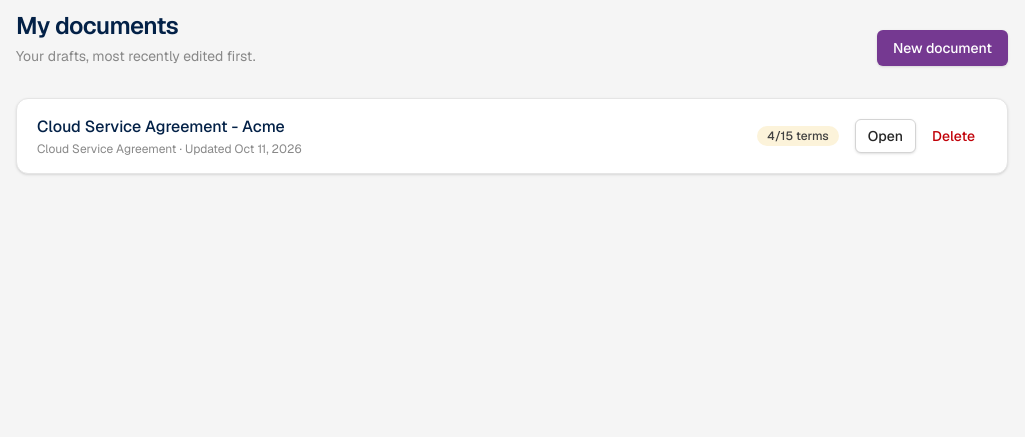
Scenario: My documents › lists documents and deletes one
The image size is (1025, 437).
Expected: the text "4/15 terms" is shown, [757,126,839,146]
Expected: the text "Cloud Service Agreement · Updated Oct 11, 2026" is shown, [37,141,302,157]
Click the button with aria-label "Delete Cloud Service Agreement - Acme" at (953, 136), box [920,119,987,153]
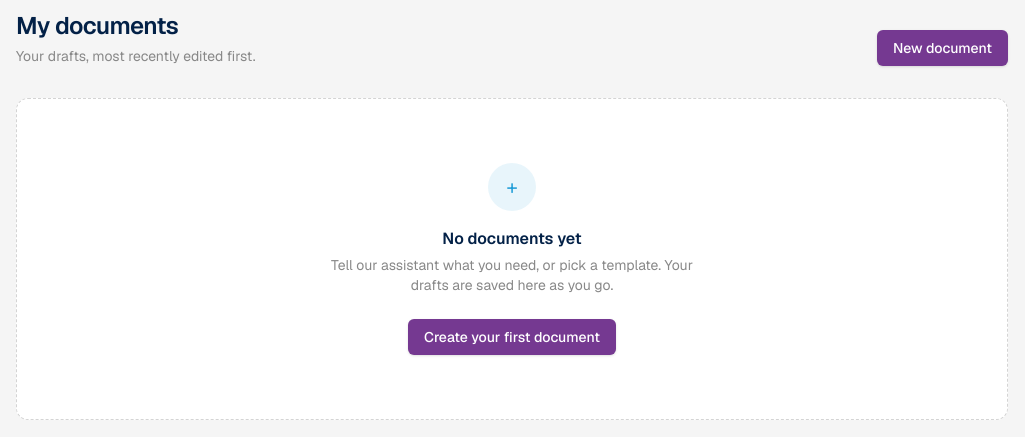
Result: the link "Cloud Service Agreement - Acme" is gone
